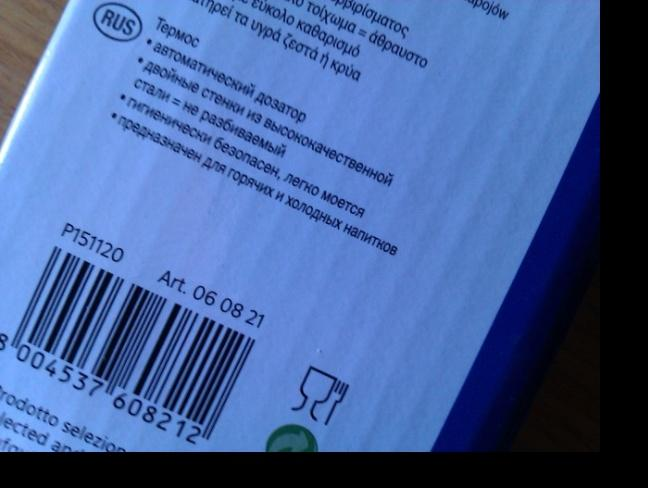Barcode: (0, 245, 258, 446)
